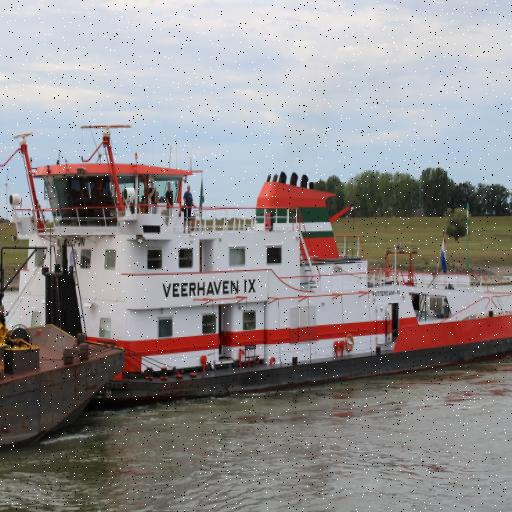tugboat: (1, 120, 512, 422)
